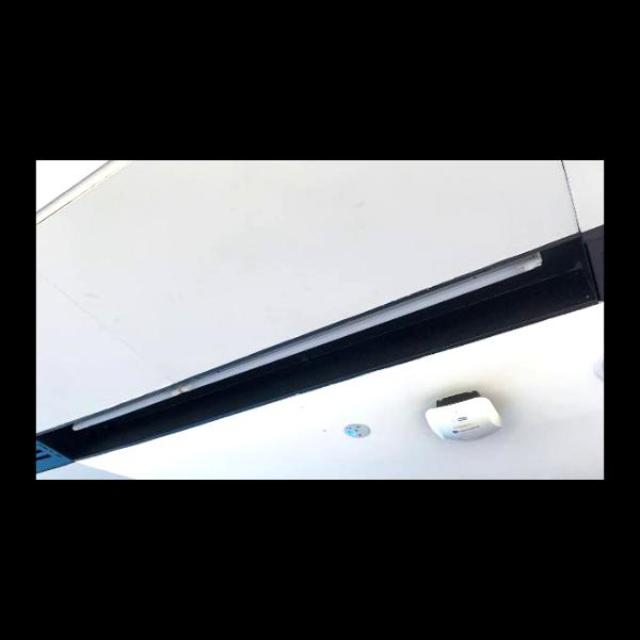Straight-Tube-Fluorescent-Lamp: (68, 243, 550, 442)
